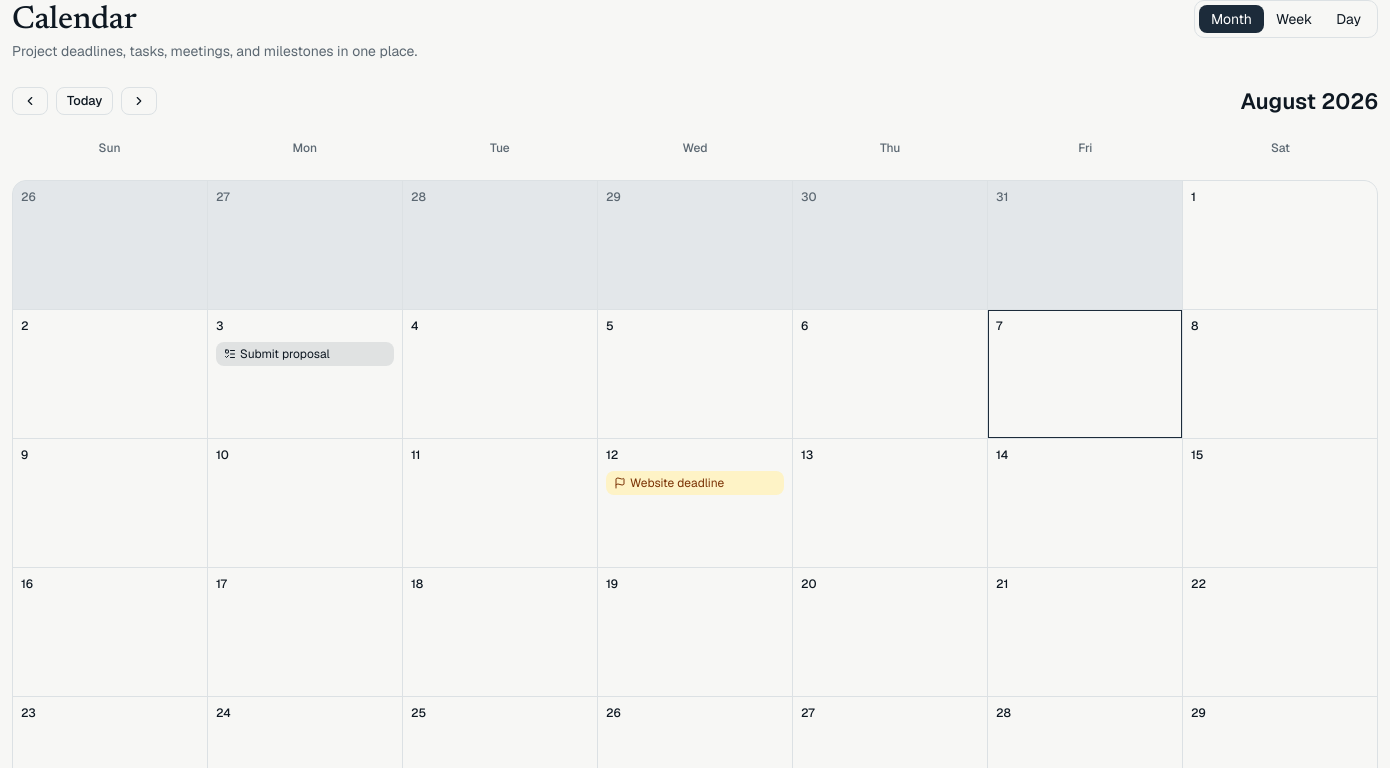
Test: CalendarView › switches between week and day views
The image size is (1390, 768).
Click the button "week": click(1294, 19) [1264,5,1324,33]
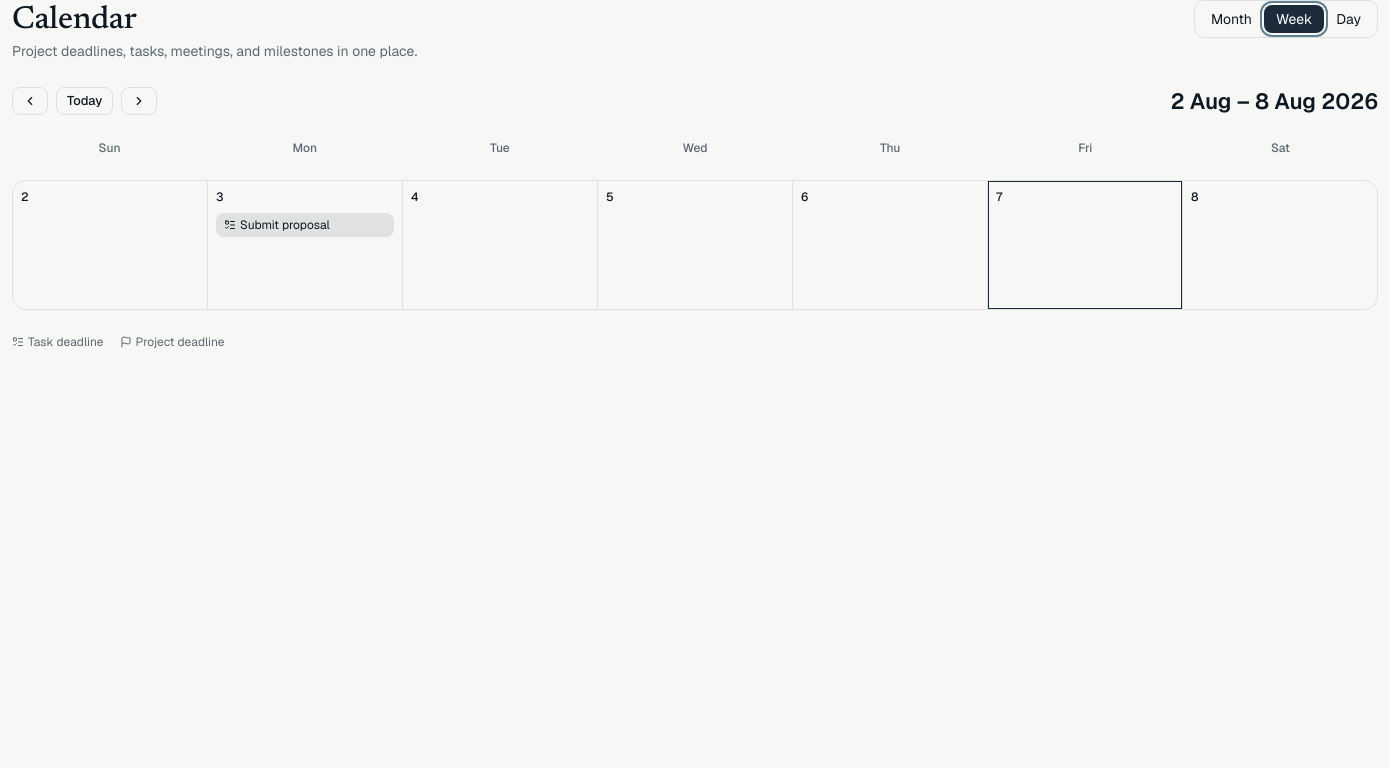
Expected: the element named "week calendar" is shown, [12,180,1378,310]
Click the button "day": click(1349, 19) [1324,5,1373,33]
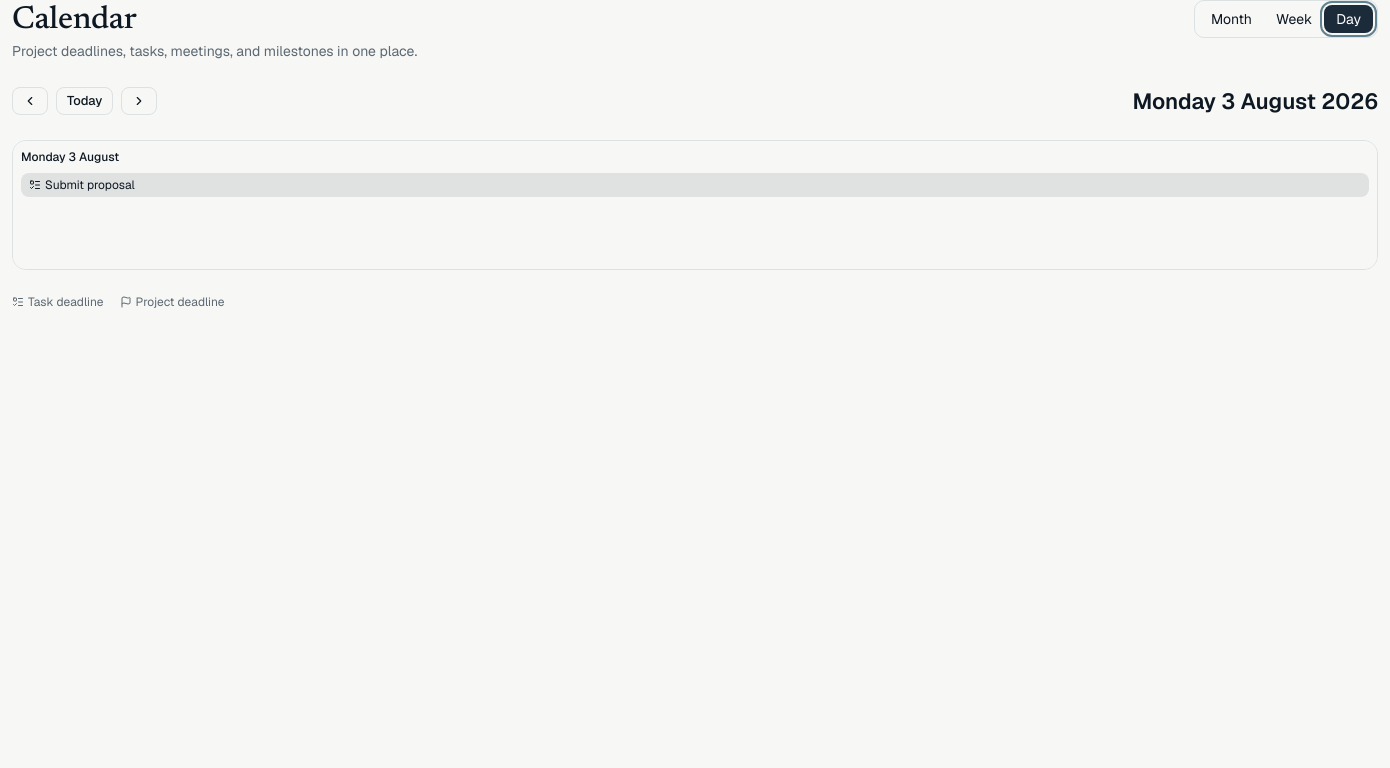
Expected: the text "Submit proposal" is shown, [45,177,135,193]
Expected: the element named "day calendar" is shown, [12,140,1378,270]
